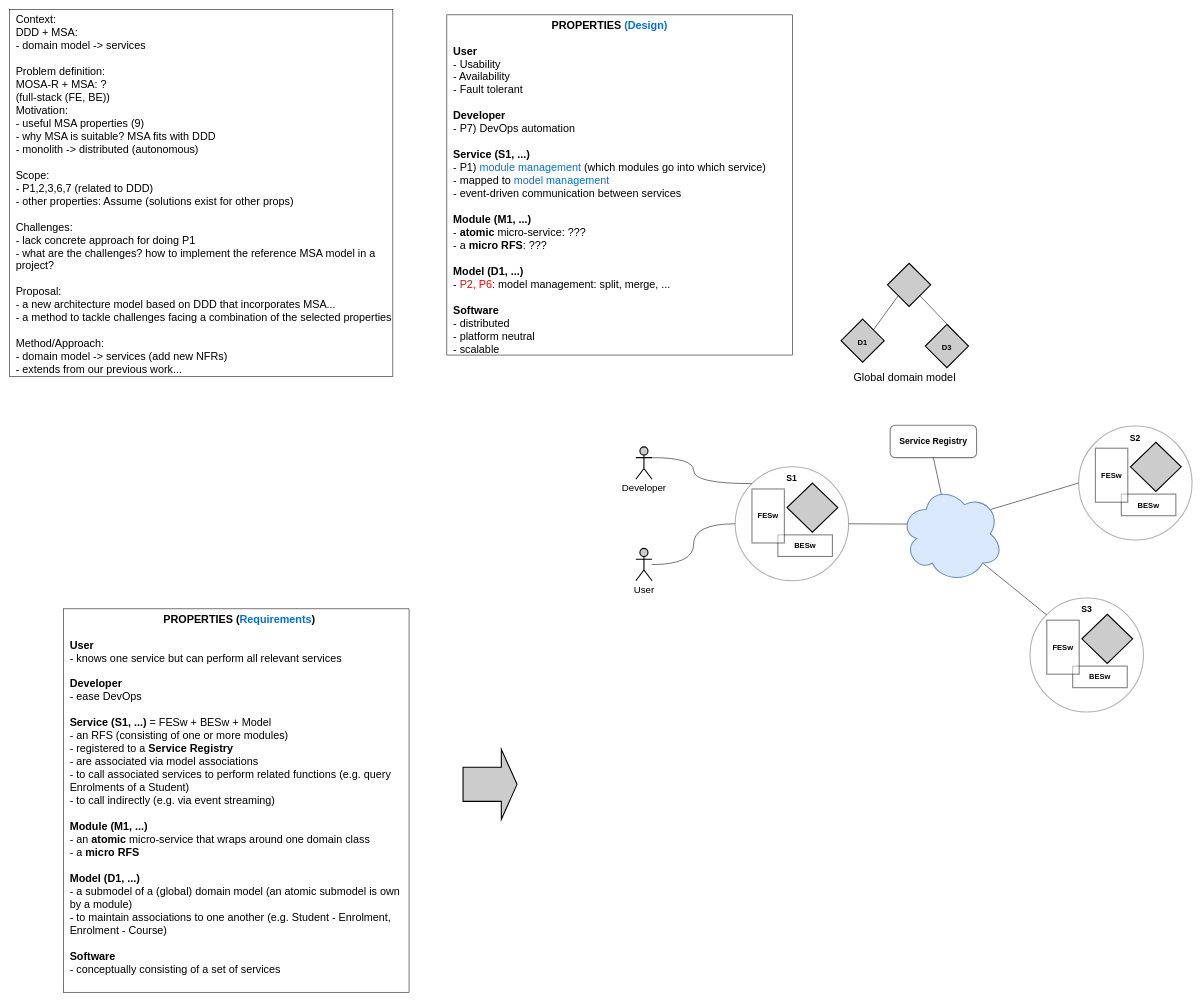
This 1202x1002 diagram has some shape labels left out. Here are the shapes that lost their labels. From the top down, the centre of each, then its label:
At pixel 909 284: "D2".
At pixel 1156 466: "D2 Enrolment".
At pixel 812 507: "D1 Student".
At pixel 951 533: "Internet/Cloud".
At pixel 1107 638: "D3 Course".
